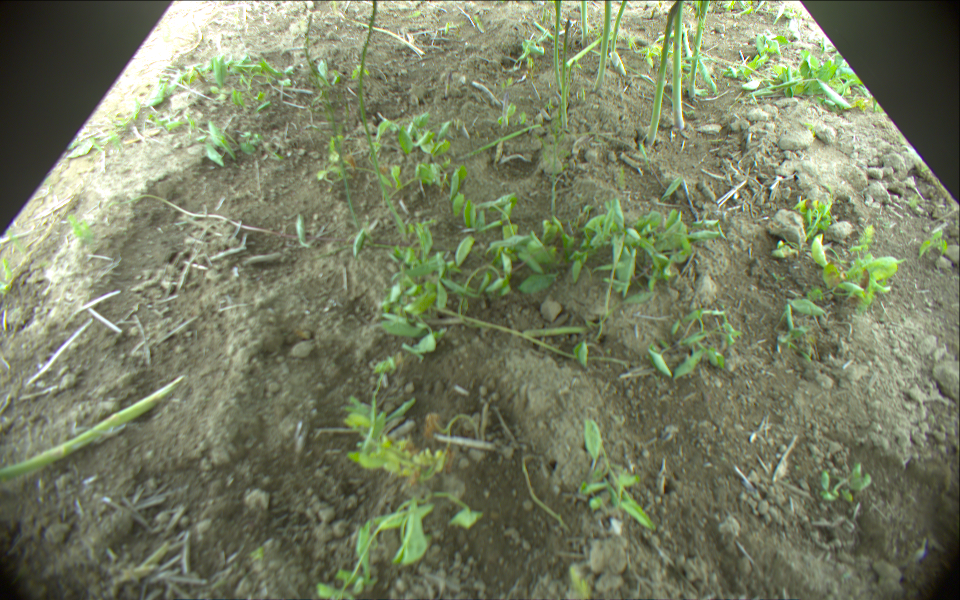aspa: (1, 375, 183, 484), (303, 13, 362, 237), (355, 1, 410, 237), (648, 1, 678, 147), (450, 125, 543, 163), (345, 14, 423, 58), (687, 1, 709, 101), (671, 1, 686, 129), (592, 1, 611, 93), (565, 34, 605, 68), (558, 21, 570, 128), (552, 1, 562, 92), (612, 1, 627, 53), (500, 89, 509, 132), (580, 1, 588, 46), (444, 71, 452, 97)
